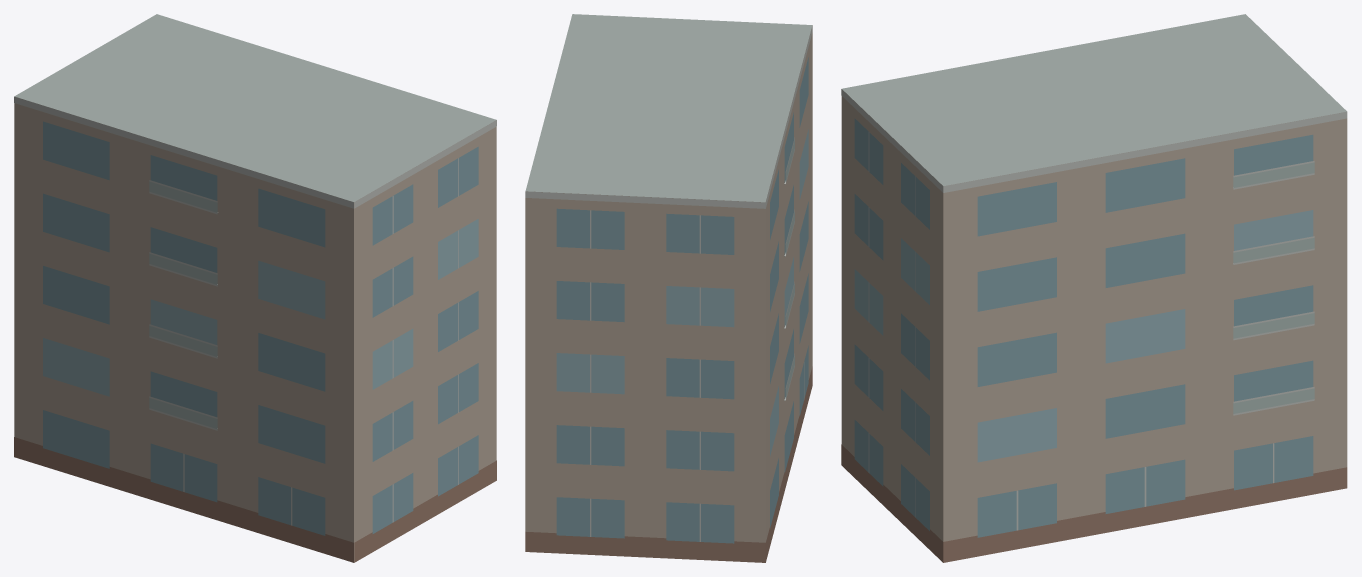
Rendered from survey-upis-32892654.glb.
The picture shows the model from 3 angles, left to right: view 1: azimuth 30°, elevation 25°; view 2: azimuth 150°, elevation 25°; view 3: azimuth 270°, elevation 25°; orthographic projection. The views are drawn at different scales.
Visible parts, largest first — view 1: survey-upis-32892654.tmp; view 2: survey-upis-32892654.tmp; view 3: survey-upis-32892654.tmp.
Part boxes in pixels (bbox=[...]): survey-upis-32892654.tmp: bbox=[14, 14, 496, 562]; survey-upis-32892654.tmp: bbox=[525, 14, 812, 562]; survey-upis-32892654.tmp: bbox=[841, 14, 1347, 562].
Size of the model in its own units: 13.2 by 13.45 by 16.38.
